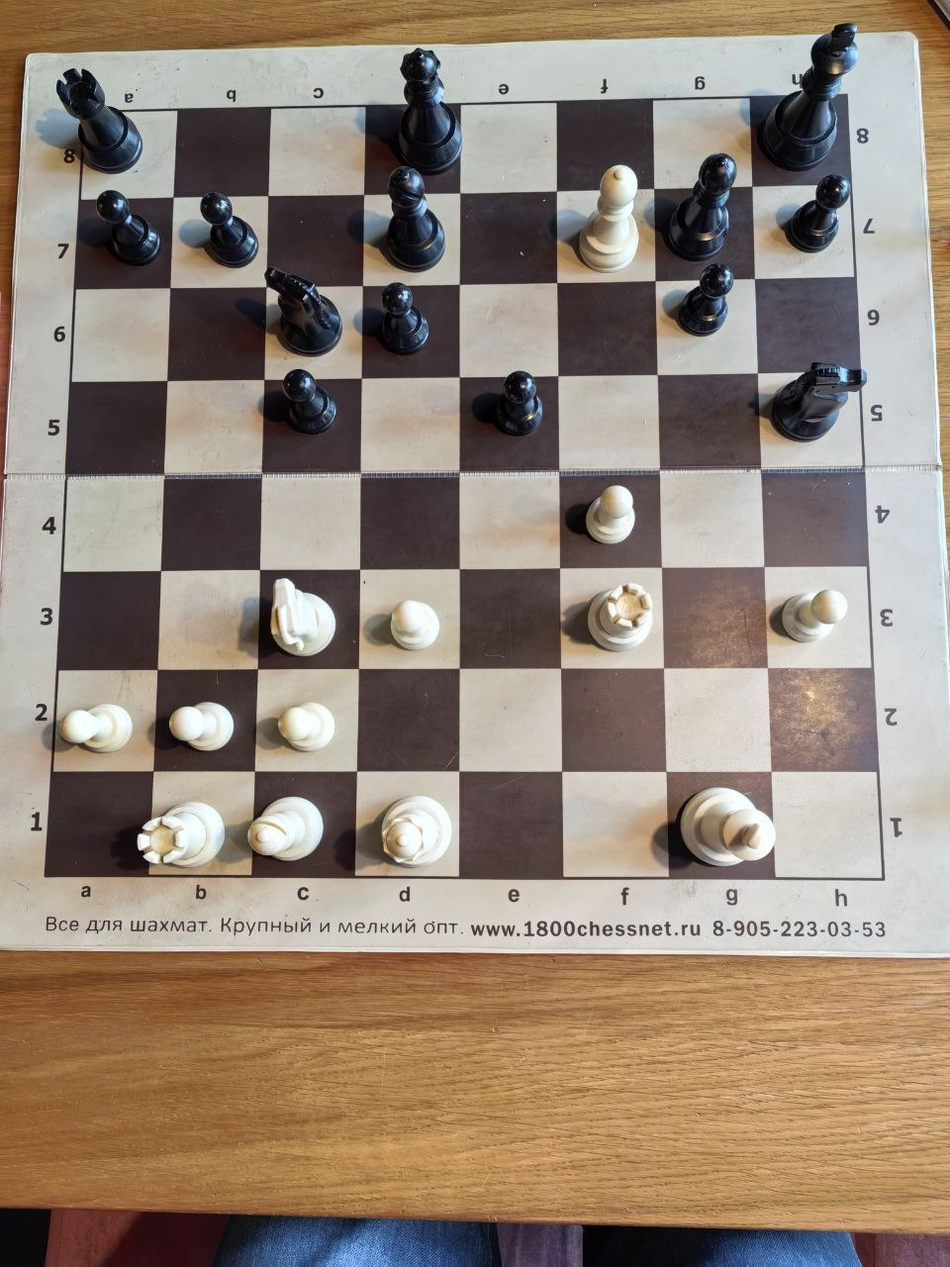black-bishop: (712, 1109, 831, 1267)
black-king: (356, 1109, 475, 1267)
black-knight: (119, 1109, 238, 1267), (594, 792, 712, 950)
black-pawn: (594, 158, 712, 317), (238, 1109, 356, 1267)
black-queen: (238, 792, 356, 950)
black-rook: (0, 950, 119, 1109), (119, 950, 238, 1109), (356, 792, 475, 950), (831, 792, 950, 950), (238, 950, 356, 1109), (594, 634, 712, 792)
white-bishop: (831, 0, 950, 158)
white-king: (356, 0, 475, 158)
white-knight: (0, 0, 119, 158)
white-pawn: (356, 158, 475, 317), (712, 158, 831, 317)
white-queen: (831, 475, 950, 634), (238, 317, 356, 475)
white-rook: (0, 158, 119, 317), (119, 158, 238, 317), (831, 158, 950, 317), (475, 475, 594, 634), (356, 317, 475, 475), (712, 317, 831, 475), (238, 475, 356, 634)
